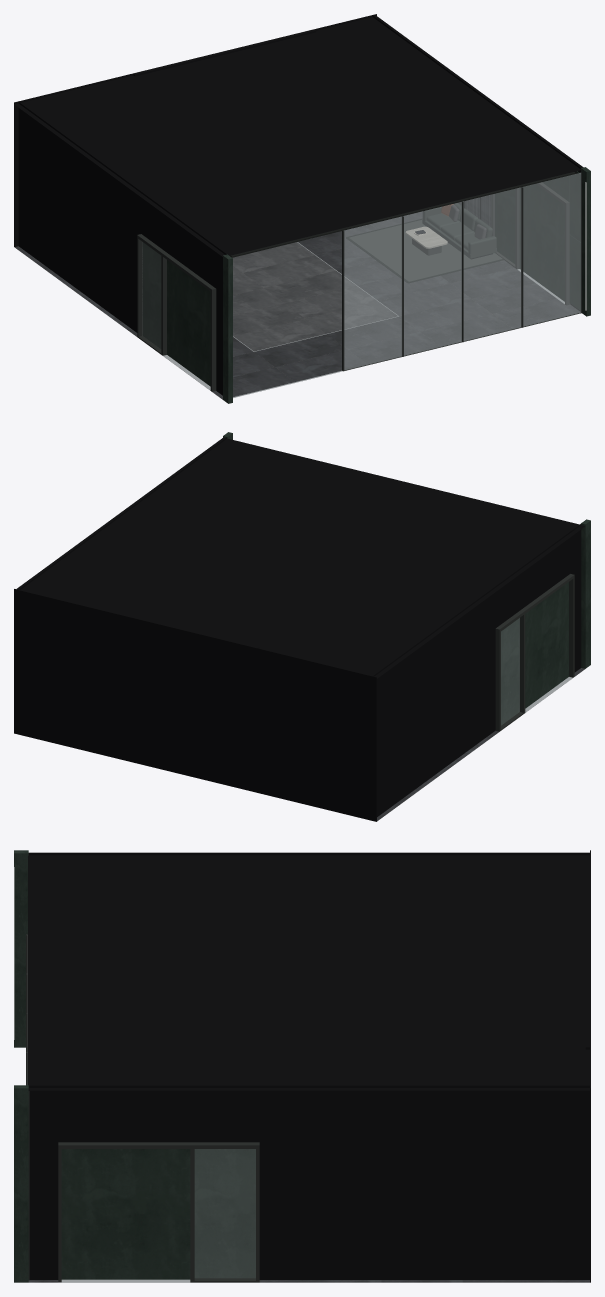
The model's file is room_urban.glb.
3 views of the same model, one above another, from view 1: azimuth 30°, elevation 25°; view 2: azimuth 150°, elevation 25°; view 3: azimuth 270°, elevation 25° (orthographic). The views are drawn at different scales.
Visible parts, largest first — view 1: MTG_Reveals, MTG_Glass_Vitrine, MTG_Floor, MTG_PortalFill_L, MTG_PortalFill_R, MTG_Rug, MTG_Walls, MTG_Sofa, MTG_Glass_PortalL, MTG_Pier_-1, MTG_Pier_1, MTG_Ceiling (+5 smaller); view 2: MTG_Reveals, MTG_PortalFill_L, MTG_Glass_PortalL, MTG_Pier_-1, MTG_PortalL_Mull, MTG_Floor, MTG_PortalL_JambA, MTG_PortalL_Head, MTG_PortalL_JambB; view 3: MTG_Reveals, MTG_PortalFill_R, MTG_Glass_PortalR, MTG_Pier_1, MTG_Pier_-1, MTG_PortalR_Head, MTG_Floor, MTG_PortalR_Mull.
Part boxes in pixels (bbox=[...]): MTG_Reveals: bbox=[14, 14, 583, 395]; MTG_Glass_Vitrine: bbox=[344, 173, 580, 369]; MTG_Floor: bbox=[14, 211, 579, 399]; MTG_PortalFill_L: bbox=[142, 242, 210, 386]; MTG_PortalFill_R: bbox=[495, 184, 564, 301]; MTG_Rug: bbox=[349, 220, 502, 281]; MTG_Walls: bbox=[458, 171, 580, 310]; MTG_Sofa: bbox=[422, 203, 496, 259]; MTG_Glass_PortalL: bbox=[142, 242, 160, 348]; MTG_Pier_-1: bbox=[223, 254, 232, 403]; MTG_Pier_1: bbox=[581, 167, 590, 316]; MTG_Ceiling: bbox=[230, 171, 576, 257]; MTG_Reveals: bbox=[14, 437, 584, 821]; MTG_PortalFill_L: bbox=[501, 582, 568, 725]; MTG_Glass_PortalL: bbox=[501, 618, 519, 724]; MTG_Pier_-1: bbox=[581, 519, 590, 668]; MTG_PortalL_Mull: bbox=[519, 614, 525, 713]; MTG_Floor: bbox=[377, 668, 584, 821]; MTG_PortalL_JambA: bbox=[495, 631, 500, 731]; MTG_PortalL_Head: bbox=[495, 574, 574, 632]; MTG_PortalL_JambB: bbox=[569, 578, 574, 677]; MTG_Reveals: bbox=[28, 850, 590, 1282]; MTG_PortalFill_R: bbox=[61, 1149, 255, 1279]; MTG_Glass_PortalR: bbox=[195, 1149, 255, 1277]; MTG_Pier_1: bbox=[14, 1085, 28, 1282]; MTG_Pier_-1: bbox=[14, 850, 28, 1047]; MTG_PortalR_Head: bbox=[58, 1142, 259, 1148]; MTG_Floor: bbox=[28, 1280, 589, 1282]; MTG_PortalR_Mull: bbox=[190, 1149, 194, 1282].
Bounding box in the file's own units: 13 × 4.95 × 13.32.
24 materials, 5 textured.
